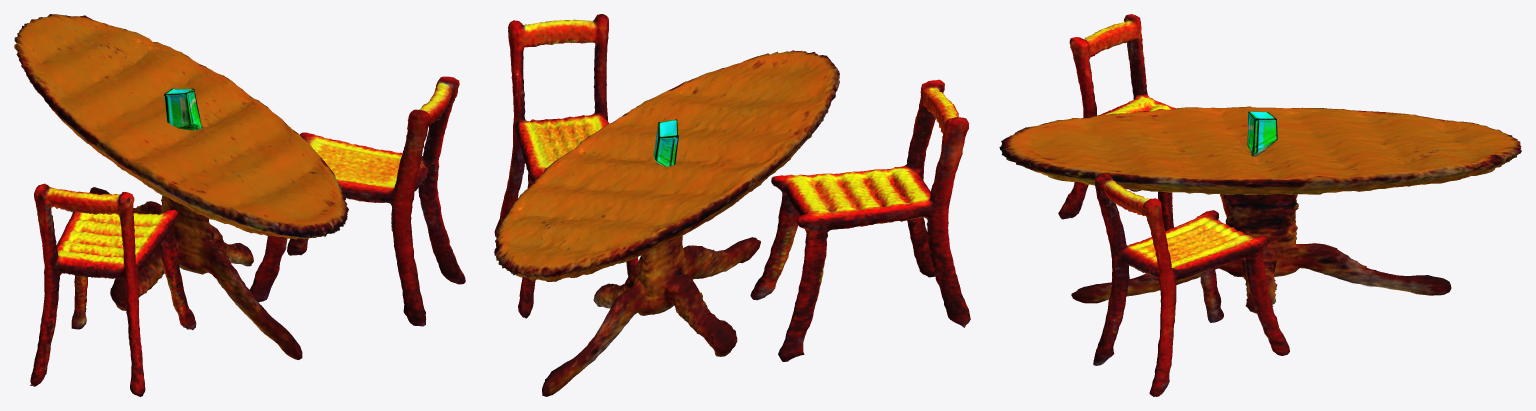
3 views of the same model, side by side, from view 1: azimuth 30°, elevation 25°; view 2: azimuth 150°, elevation 25°; view 3: azimuth 270°, elevation 25° (orthographic). The views are drawn at different scales.
Visible parts, largest first — view 1: Table, Chair_1, Chair, Other; view 2: Table, Chair_1, Chair, Other; view 3: Table, Chair, Chair_1, Other.
Part boxes in pixels (<box>): Table: <box>14,14,348,359</box>; Chair_1: <box>30,183,196,396</box>; Chair: <box>250,76,465,326</box>; Other: <box>164,88,202,130</box>; Table: <box>494,50,839,396</box>; Chair_1: <box>750,79,970,361</box>; Chair: <box>494,14,638,318</box>; Other: <box>653,119,678,166</box>; Table: <box>999,106,1521,313</box>; Chair: <box>1093,173,1289,396</box>; Chair_1: <box>1058,14,1229,231</box>; Other: <box>1247,111,1277,156</box>.
Size of what is drawn, in the model's own units: 1.83 by 0.836 by 2.06.
Materials: 4 (4 with a texture image).
